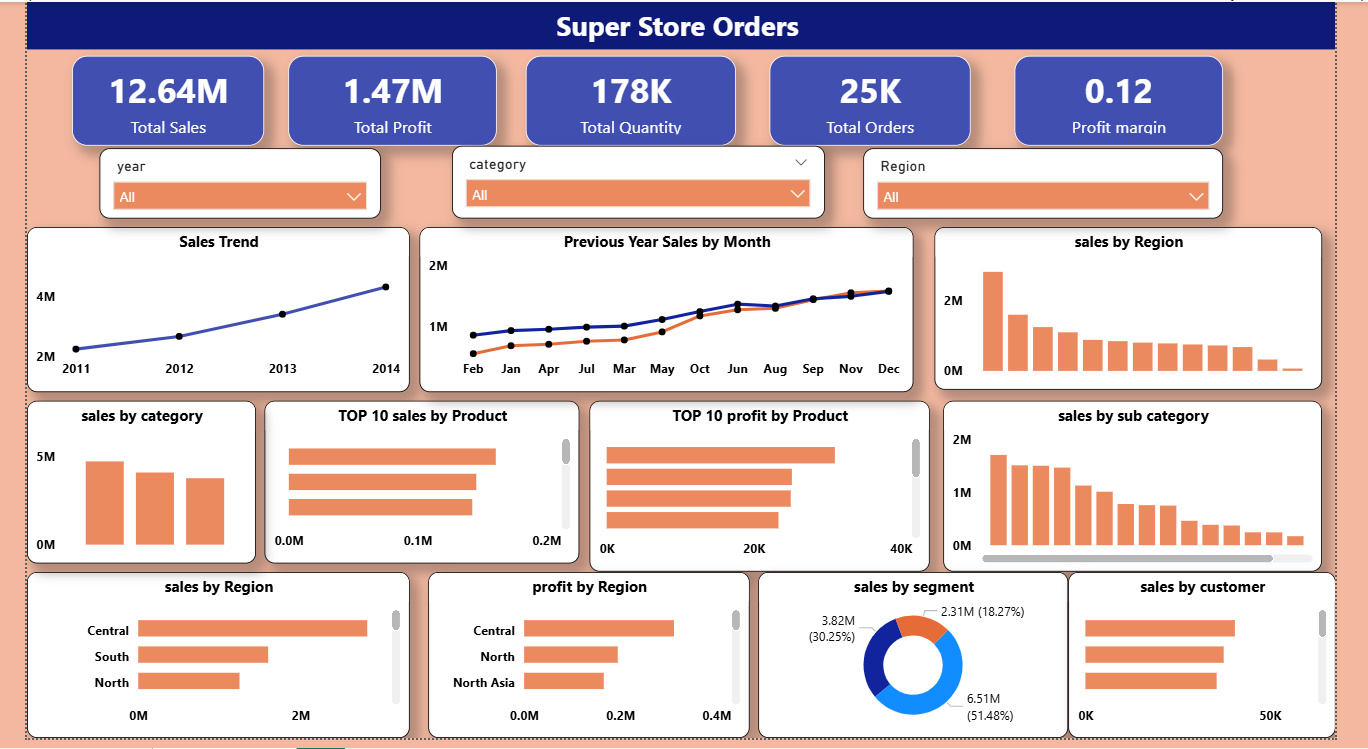

Layout of this report page (visuals, bound fields, positions):
{"tool":"powerbi","page":{"name":"Mini project 1","canvas":[1280,720],"ordinal":0},"visuals":[{"type":"card","fields":{"Values":["Super Store Mini Project.Total Sales"]},"box":[43.5,53.1,188.3,88],"z":0},{"type":"card","fields":{"Values":["Super Store Mini Project.Total Profit"]},"box":[255.1,53.1,204.2,88],"z":1000},{"type":"card","fields":{"Values":["Super Store Mini Project.Total Quantity"]},"box":[487.4,53.1,205.4,88],"z":2000},{"type":"card","fields":{"Values":["Super Store Mini Project.Total Orders"]},"box":[725.9,53.1,196.9,88],"z":3000},{"type":"card","fields":{"Values":["Super Store Mini Project.Profit margin"]},"box":[965.5,53.1,204.2,88],"z":4000},{"type":"lineChart","title":"Sales Trend","fields":{"Y":["Sum(Super Store Mini Project.sales)"],"Category":["Super Store Mini Project.year"]},"box":[0,220.1,374.2,161.4],"z":5000},{"type":"textbox","box":[0,0,1280,46.2],"z":6000},{"type":"columnChart","title":"sales by Region","fields":{"Category":["Super Store Mini Project.Region"],"Y":["Sum(Super Store Mini Project.sales)"]},"box":[886.6,220.1,379.1,159],"z":7000},{"type":"barChart","title":"TOP 10 sales by Product","fields":{"Y":["Sum(Super Store Mini Project.sales)"],"Category":["Super Store Mini Project.Product_name"]},"box":[232.3,390.1,308.2,159],"z":8000},{"type":"barChart","title":" TOP 10 profit by Product","fields":{"Y":["Sum(Super Store Mini Project.profit)"],"Category":["Super Store Mini Project.Product_name"]},"box":[550.3,390.1,337.5,159],"z":9000},{"type":"columnChart","title":"sales by sub category","fields":{"Category":["Super Store Mini Project.sub_category"],"Y":["Sum(Super Store Mini Project.sales)"]},"box":[896.3,390.1,370.5,167.5],"z":10000},{"type":"barChart","title":"profit by Region","fields":{"Y":["Sum(Super Store Mini Project.profit)"],"Category":["Super Store Mini Project.Region"]},"box":[0,557.6,415.8,162.6],"z":12000},{"type":"donutChart","title":"sales by segment","fields":{"Category":["Super Store Mini Project.segment"],"Y":["Sum(Super Store Mini Project.sales)"]},"box":[430.4,557.6,436.6,162.6],"z":13000},{"type":"barChart","title":"sales by customer","fields":{"Category":["Super Store Mini Project.customer_name"],"Y":["Sum(Super Store Mini Project.sales)"]},"box":[896.3,557.6,359.5,162.6],"z":14000},{"type":"lineChart","title":" Previous Year Sales by Month","fields":{"Category":["DateTable.Month"],"Y":["Super Store Mini Project.Total Sales"],"Y2":["Super Store Mini Project.Previous Year Sales"]},"box":[384,220.1,483,161.4],"z":15000},{"type":"slicer","fields":{"Values":["Super Store Mini Project.year"]},"box":[70.9,143.1,275.1,68.5],"z":16000},{"type":"slicer","fields":{"Values":["Super Store Mini Project.Region"]},"box":[818.1,143.1,352.2,68.5],"z":17000},{"type":"slicer","fields":{"Values":["Super Store Mini Project.category"]},"box":[415.8,140.6,364.4,70.9],"z":18000},{"type":"columnChart","title":"sales by category","fields":{"Y":["Sum(Super Store Mini Project.sales)"],"Category":["Super Store Mini Project.category"]},"box":[0,390.1,223.8,159],"z":19000}]}

Visuals, with their boxes in screenshot pixels (x1, y1, x2, y2), scaled from the page's 1280x720 canvas onto the 1368x749 screenshot:
card - Super Store Mini Project.Total Sales: detection(46, 55, 248, 147)
card - Super Store Mini Project.Total Profit: detection(273, 55, 491, 147)
card - Super Store Mini Project.Total Quantity: detection(521, 55, 740, 147)
card - Super Store Mini Project.Total Orders: detection(776, 55, 986, 147)
card - Super Store Mini Project.Profit margin: detection(1032, 55, 1250, 147)
"Sales Trend" lineChart: detection(0, 229, 400, 397)
textbox: detection(0, 0, 1367, 48)
"sales by Region" columnChart: detection(948, 229, 1353, 394)
"TOP 10 sales by Product" barChart: detection(248, 406, 578, 571)
" TOP 10 profit by Product" barChart: detection(588, 406, 949, 571)
"sales by sub category" columnChart: detection(958, 406, 1354, 580)
"profit by Region" barChart: detection(0, 580, 444, 748)
"sales by segment" donutChart: detection(460, 580, 927, 748)
"sales by customer" barChart: detection(958, 580, 1342, 748)
" Previous Year Sales by Month" lineChart: detection(410, 229, 927, 397)
slicer - Super Store Mini Project.year: detection(76, 149, 370, 220)
slicer - Super Store Mini Project.Region: detection(874, 149, 1251, 220)
slicer - Super Store Mini Project.category: detection(444, 146, 834, 220)
"sales by category" columnChart: detection(0, 406, 239, 571)
